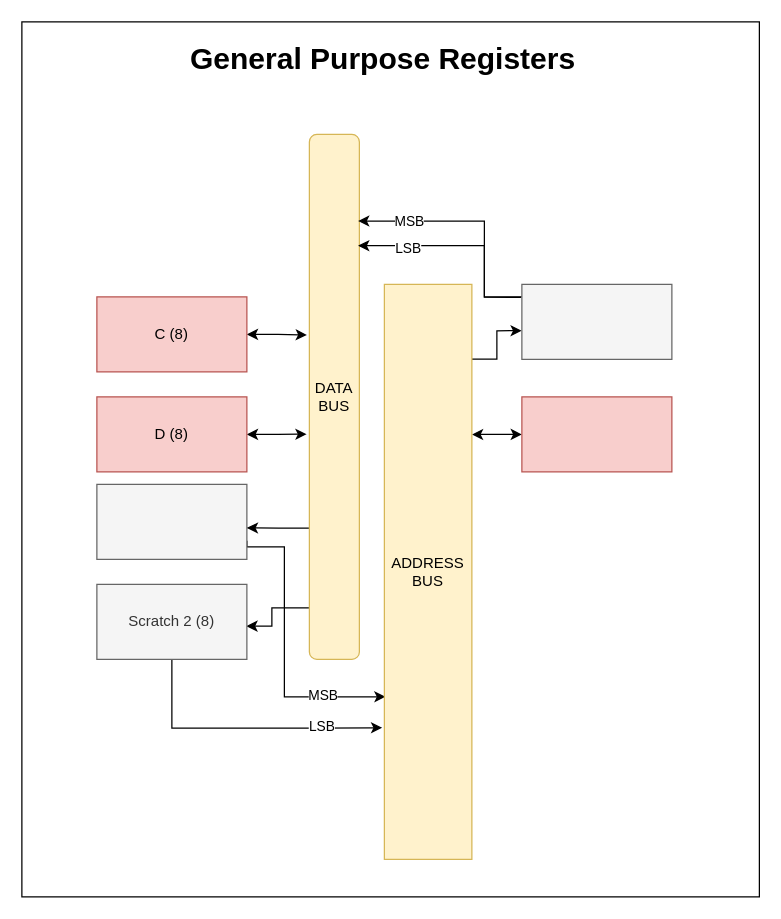
This 781x919 diagram has some shape labels left out. The centre of each missing label's shape, as x and y in pixels:
"F (16)" goes at point 596,434.
"Scratch 1 (8)" goes at point 171,521.
"Scratch 3 (16)" goes at point 596,321.
